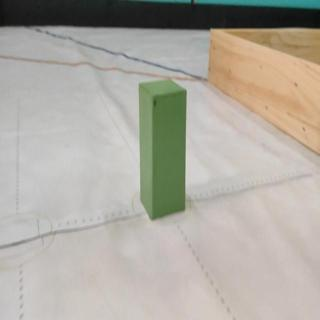greenbox: (139, 76, 189, 221)
